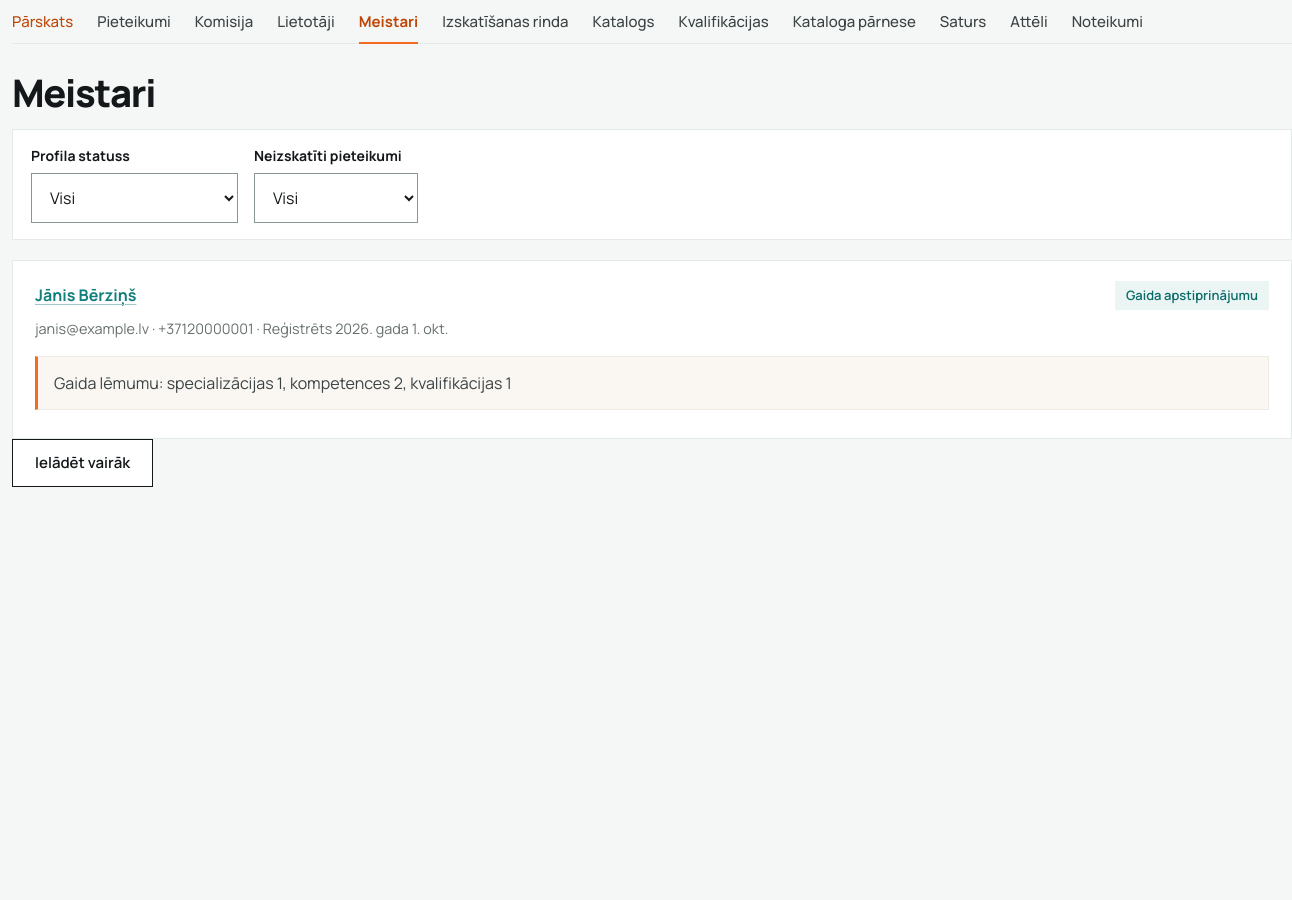
Test: MastersPage › loads more with the cursor and appends
Click the button "Ielādēt vairāk": (83, 463) [12,439,153,487]
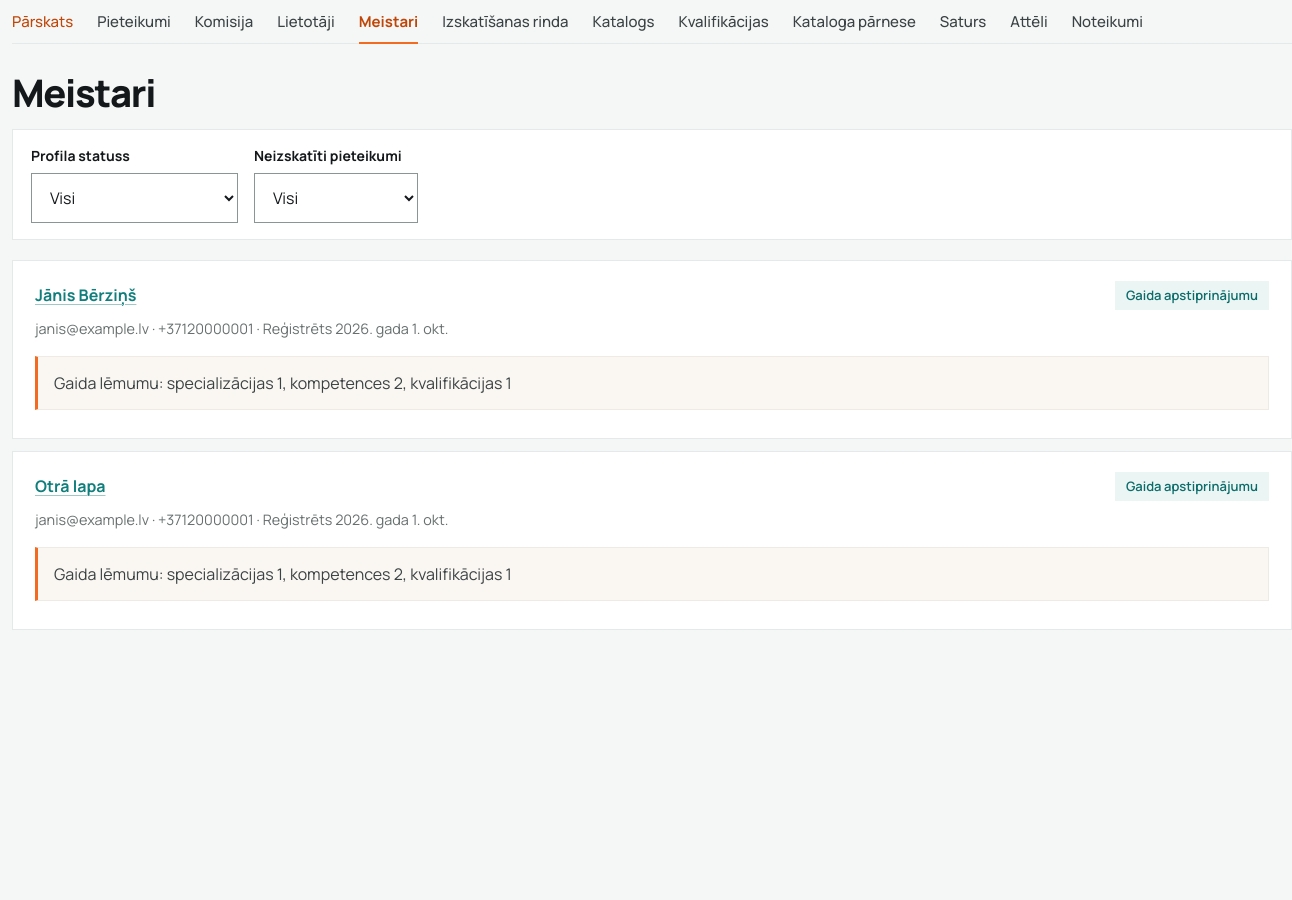
Check: the text "Jānis Bērziņš" is shown, box [35,284,136,306]
Check: the text "Otrā lapa" is shown, box [35,475,106,497]
Check: the button "Ielādēt vairāk" is gone
